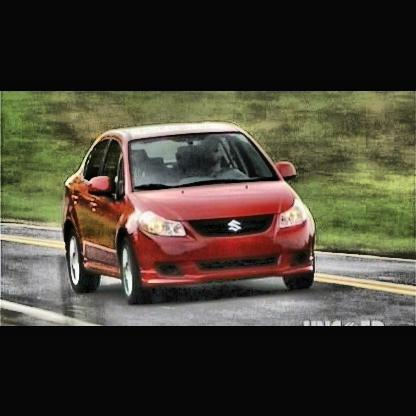Suzuki SX4 Sedan 2012: (63, 120, 320, 290)
